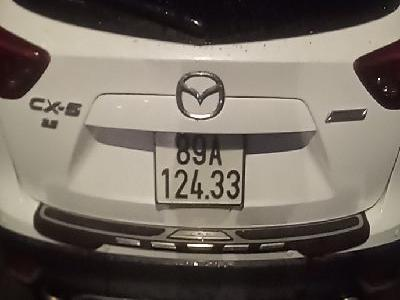number: (152, 128, 245, 209)
